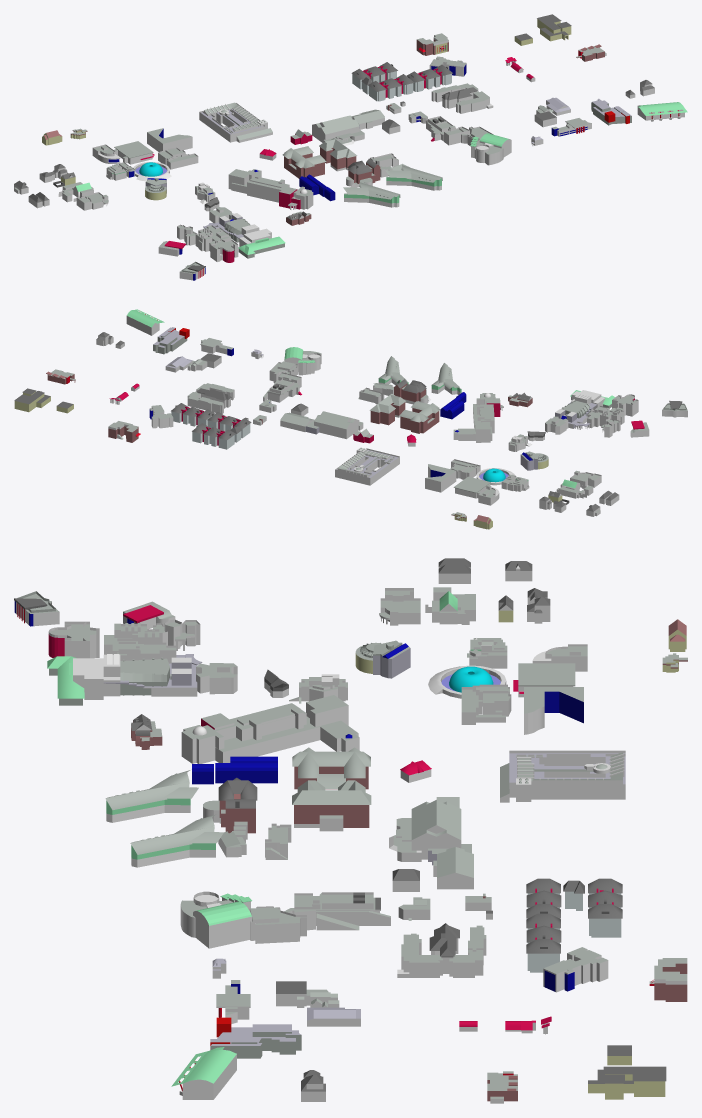
The model's file is BUILDINGS.fbx.
3 renders of one model, top to bottom at view 1: azimuth 30°, elevation 25°; view 2: azimuth 150°, elevation 25°; view 3: azimuth 270°, elevation 25°, orthographic. The views are drawn at different scales.
Visible parts, largest first — view 1: Polk_Science_Building, Lucius_Pond_Ordway_Building, Gorge_W_Jenkins_Field_House, Music_Addition, Joseph_Reynolds_Hall, Nina_B_Hollis_Wellness_Center, Building_62, Nicholas_Hall, Wesley_Hall, Roberts_Academy, Allan_Spivey_Hall, Building_63 (+23 smaller); view 2: Lucius_Pond_Ordway_Building, Polk_Science_Building, Joseph_Reynolds_Hall, Gorge_W_Jenkins_Field_House, Allan_Spivey_Hall, Building_61, Roberts_Academy, Harbert_E_Wolfe_Building, Nina_B_Hollis_Wellness_Center, Brandscomb_Memorial_Auditorium, Building_62, Facilities_Maintenance_Building (+25 smaller); view 3: Polk_Science_Building, Lucius_Pond_Ordway_Building, Allan_Spivey_Hall, Nina_B_Hollis_Wellness_Center, Gorge_W_Jenkins_Field_House, Harbert_E_Wolfe_Building, Music_Addition, Brandscomb_Memorial_Auditorium, Roberts_Academy, Nicholas_Hall, Wesley_Hall, Carol_And_Marcus_Weinstein_Computer_Science_Center (+37 smaller).
Part boxes in pixels (x1=…): Polk_Science_Building: x1=228, y1=169, x2=313, y2=209; Lucius_Pond_Ordway_Building: x1=199, y1=102, x2=272, y2=142; Gorge_W_Jenkins_Field_House: x1=312, y1=115, x2=364, y2=145; Music_Addition: x1=238, y1=224, x2=285, y2=258; Joseph_Reynolds_Hall: x1=282, y1=146, x2=326, y2=178; Nina_B_Hollis_Wellness_Center: x1=470, y1=133, x2=511, y2=165; Building_62: x1=361, y1=74, x2=414, y2=101; Nicholas_Hall: x1=385, y1=164, x2=442, y2=190; Wesley_Hall: x1=343, y1=181, x2=400, y2=207; Roberts_Academy: x1=514, y1=14, x2=571, y2=45; Allan_Spivey_Hall: x1=319, y1=138, x2=357, y2=171; Building_63: x1=406, y1=64, x2=452, y2=91; Lucius_Pond_Ordway_Building: x1=335, y1=447, x2=399, y2=485; Polk_Science_Building: x1=453, y1=393, x2=503, y2=442; Joseph_Reynolds_Hall: x1=399, y1=401, x2=440, y2=433; Gorge_W_Jenkins_Field_House: x1=314, y1=411, x2=363, y2=439; Allan_Spivey_Hall: x1=369, y1=394, x2=405, y2=425; Building_61: x1=192, y1=423, x2=235, y2=449; Roberts_Academy: x1=14, y1=388, x2=73, y2=413; Harbert_E_Wolfe_Building: x1=263, y1=372, x2=301, y2=402; Nina_B_Hollis_Wellness_Center: x1=284, y1=347, x2=321, y2=375; Brandscomb_Memorial_Auditorium: x1=552, y1=400, x2=597, y2=429; Building_62: x1=207, y1=412, x2=251, y2=442; Facilities_Maintenance_Building: x1=165, y1=353, x2=221, y2=372; Polk_Science_Building: x1=181, y1=695, x2=359, y2=763; Lucius_Pond_Ordway_Building: x1=500, y1=750, x2=625, y2=802; Allan_Spivey_Hall: x1=292, y1=780, x2=371, y2=831; Nina_B_Hollis_Wellness_Center: x1=180, y1=891, x2=251, y2=948; Gorge_W_Jenkins_Field_House: x1=389, y1=800, x2=461, y2=861; Harbert_E_Wolfe_Building: x1=294, y1=892, x2=390, y2=930; Music_Addition: x1=47, y1=654, x2=120, y2=705; Brandscomb_Memorial_Auditorium: x1=103, y1=654, x2=202, y2=696; Roberts_Academy: x1=588, y1=1045, x2=666, y2=1099; Nicholas_Hall: x1=130, y1=814, x2=223, y2=867; Wesley_Hall: x1=105, y1=770, x2=198, y2=822; Carol_And_Marcus_Weinstein_Computer_Science_Center: x1=210, y1=1017, x2=301, y2=1058.
Bounding box in the file's own units: 111 × 3.3 × 59.61.
